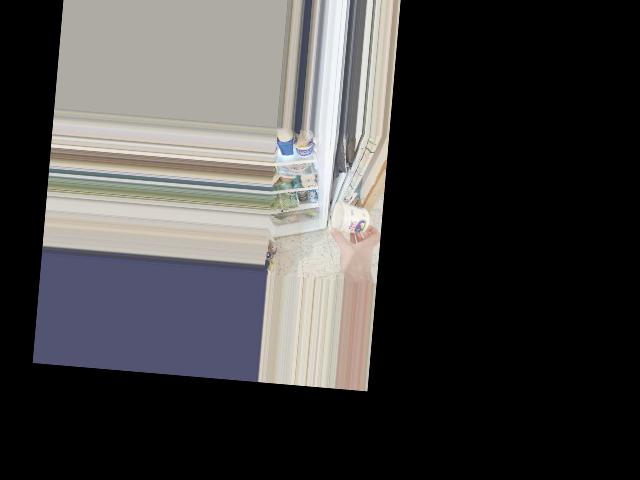cotage: (327, 199, 374, 242)
